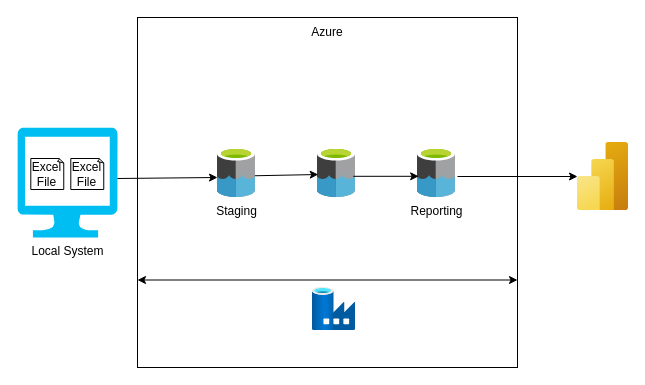
Some shapes in this 645 by 385 pixel diagram are drawn without their labels. Each missing label, with the box of its shape:
Integration: (317, 147, 355, 197)
PBI: (577, 142, 628, 210)
